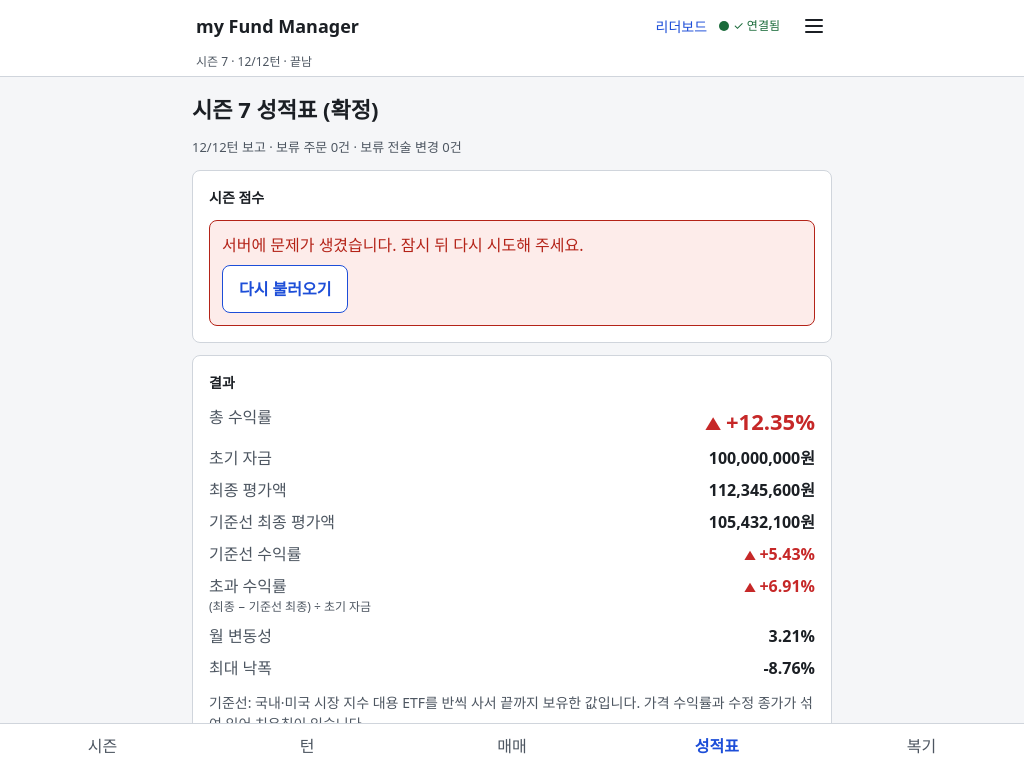
ReportPage score card › S6: a score 500 shows a QueryError in the card only, with a retry
Expected: the heading "시즌 7 성적표 (확정)" is shown, [192,94,378,124]
Expected: the message "서버에 문제가 생겼습니다. 잠시 뒤 다시 시도해 주세요. 다시 불러오기" is shown, [209,220,815,326]
Click the button "다시 불러오기" at (285, 288), box [222,264,348,312]
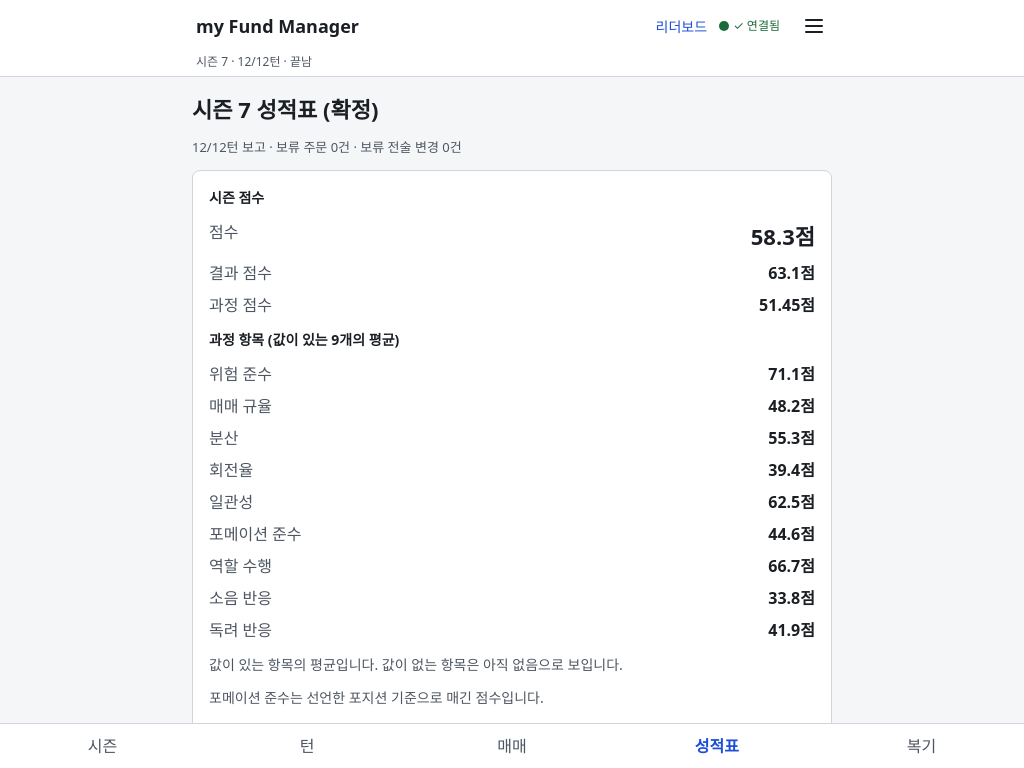
Expected: the text "58.3점" is shown, [751,220,815,252]
